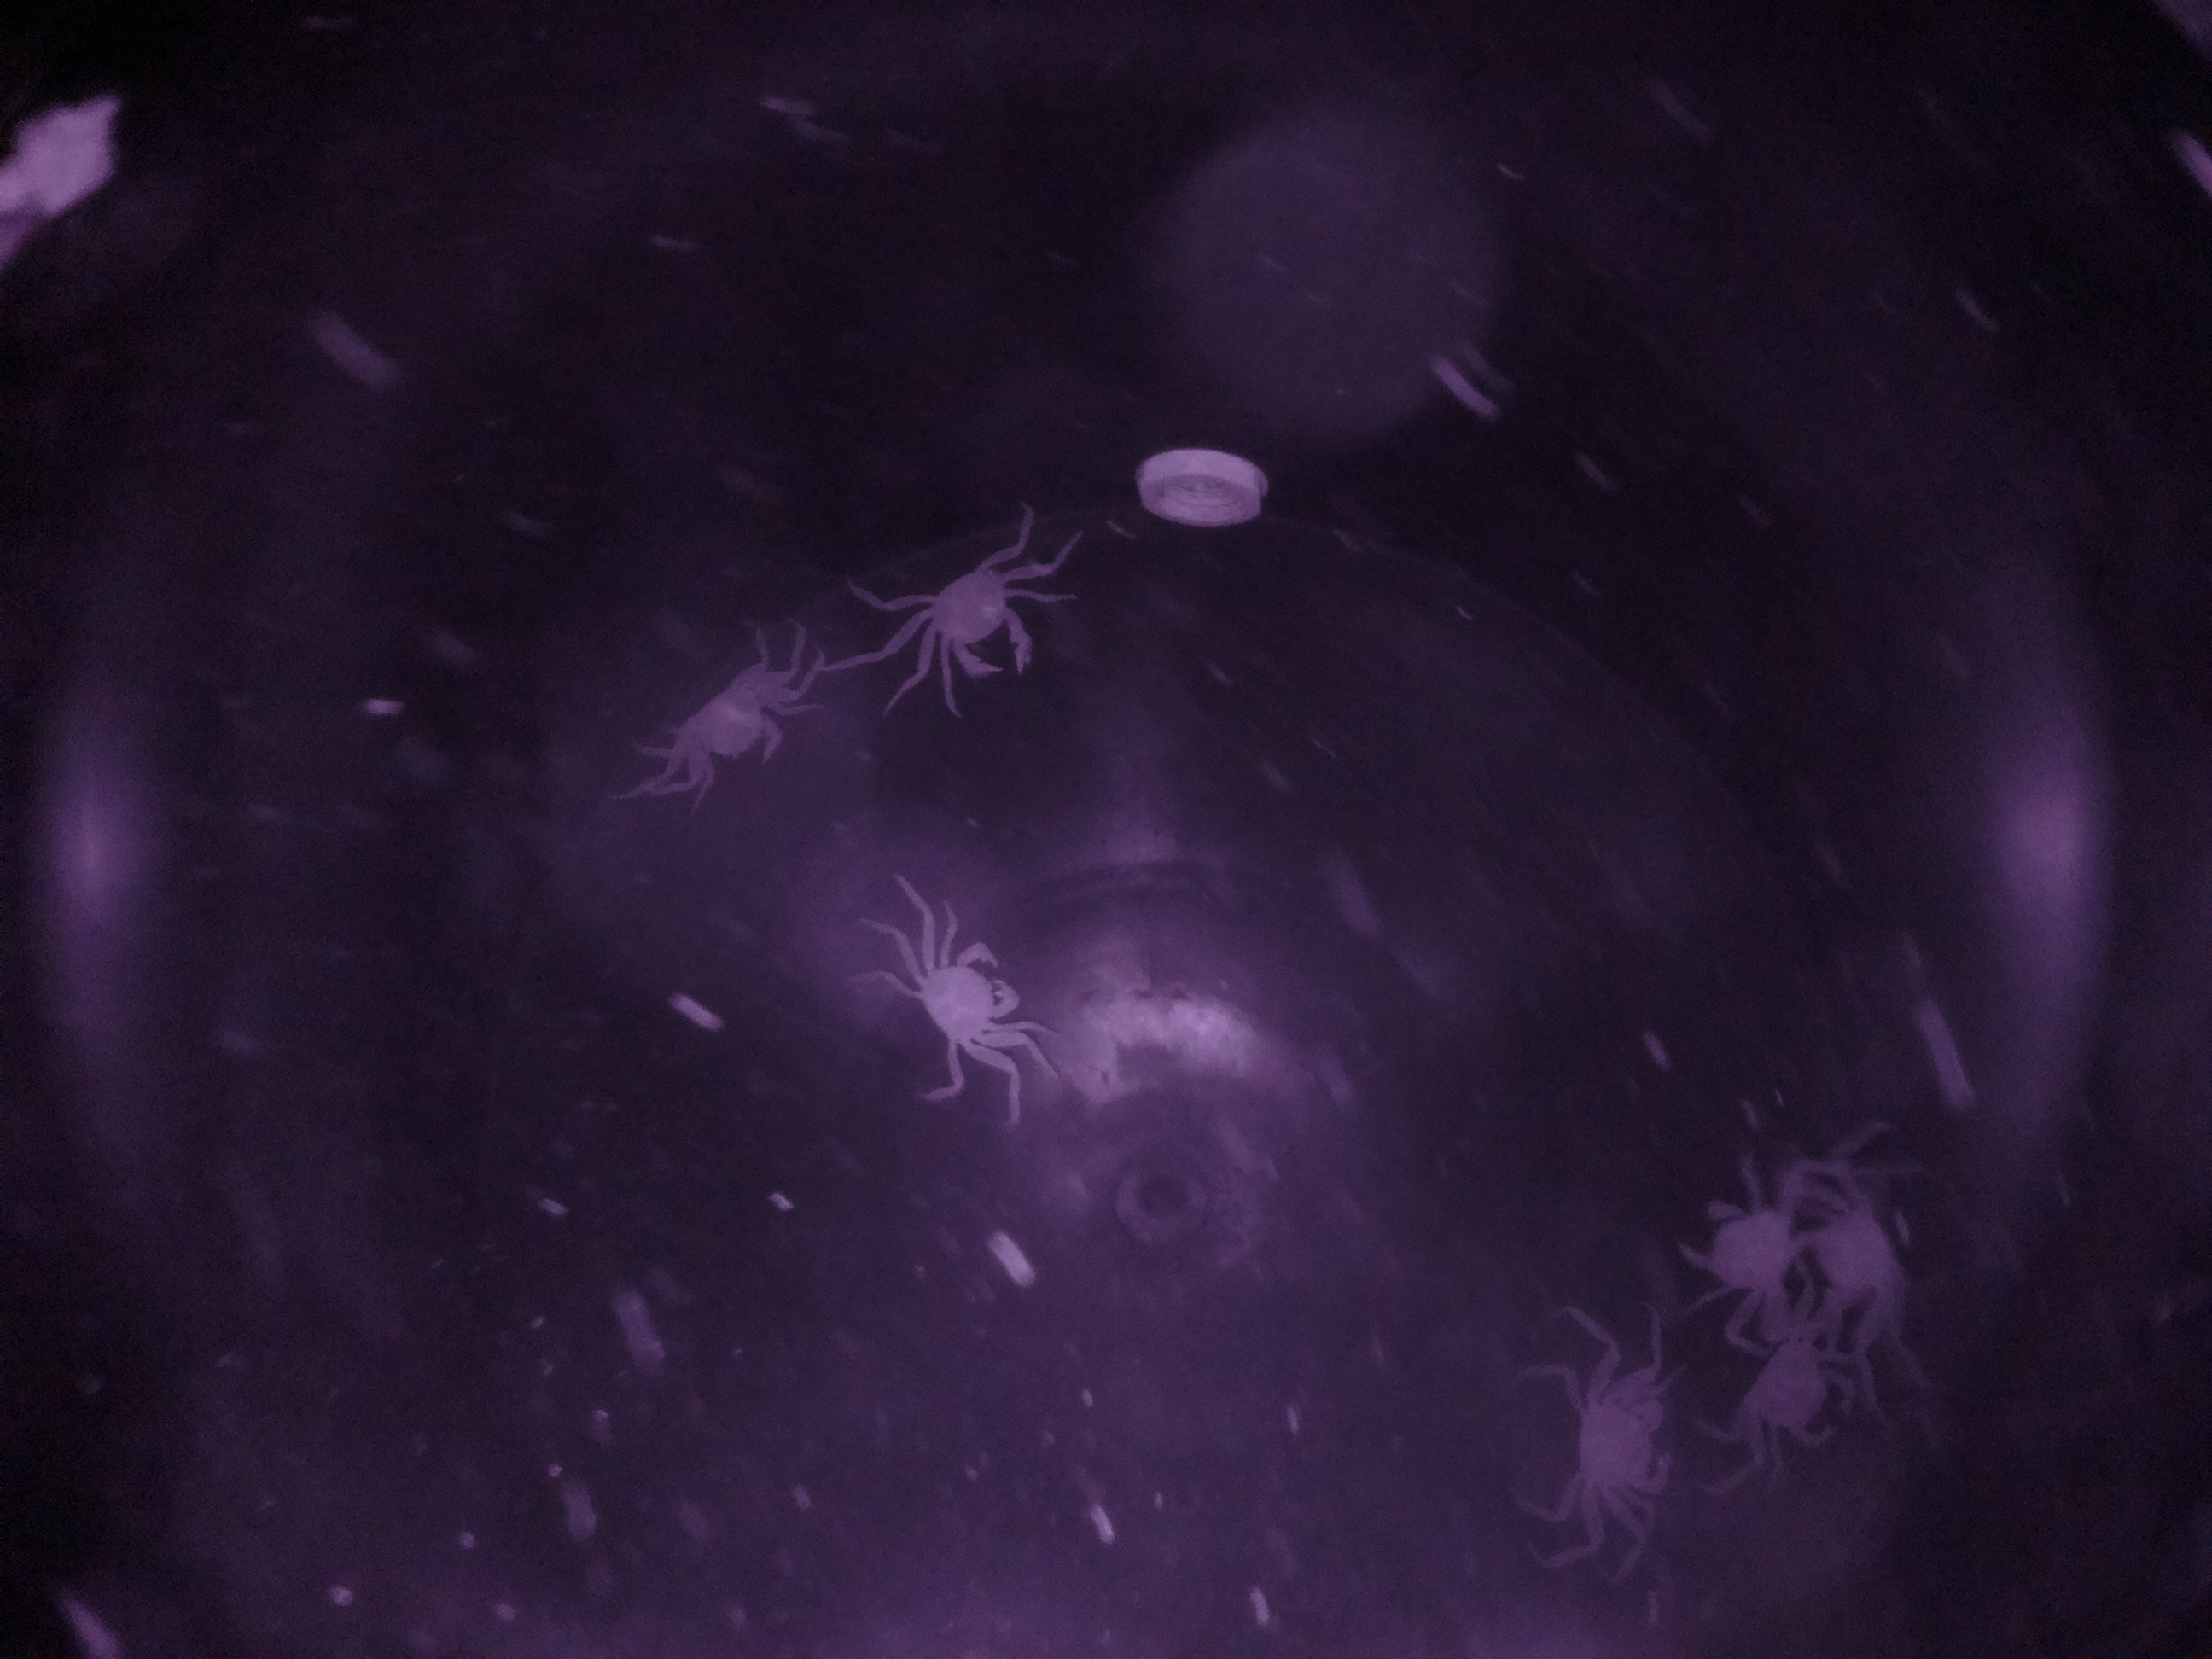Crab: (894, 523, 1059, 701), (1547, 1333, 1679, 1544), (651, 640, 824, 793), (887, 922, 1033, 1075)
